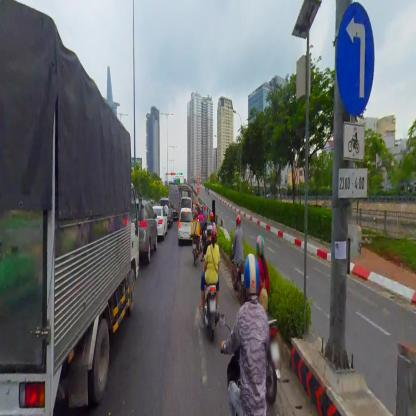Cam con lai: (196, 176, 199, 184)
Hieu lenh: (335, 0, 374, 116)
